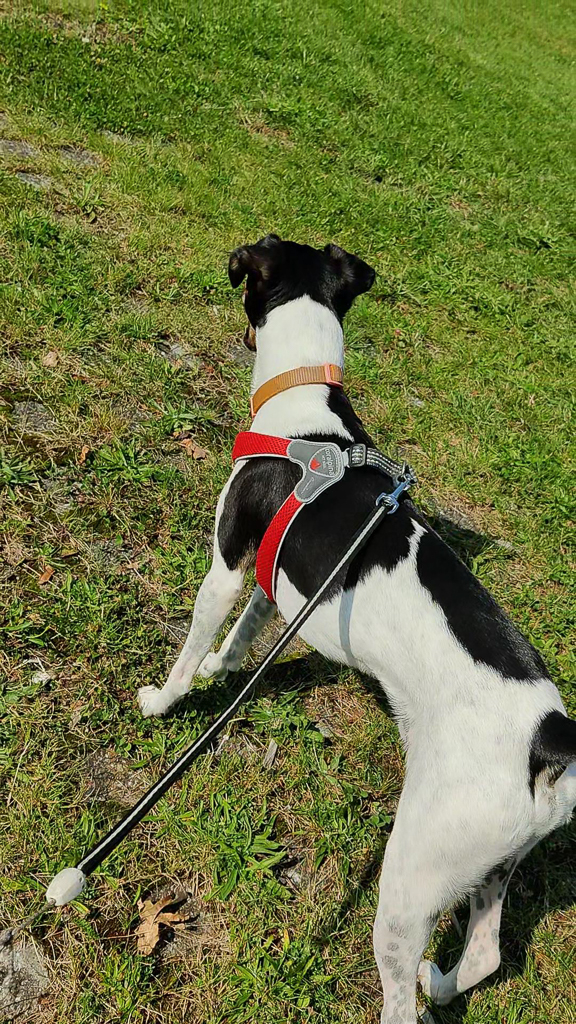Dog: (119, 216, 576, 1024)
